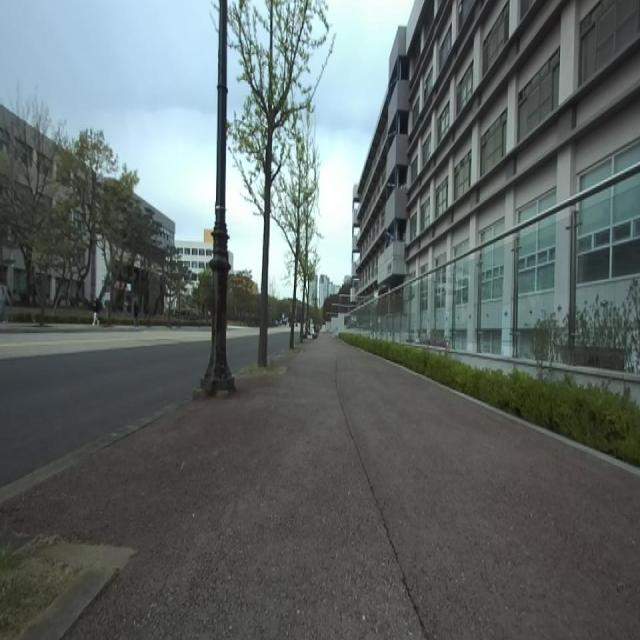sidewalk: (0, 335, 640, 639), (0, 398, 190, 504)
